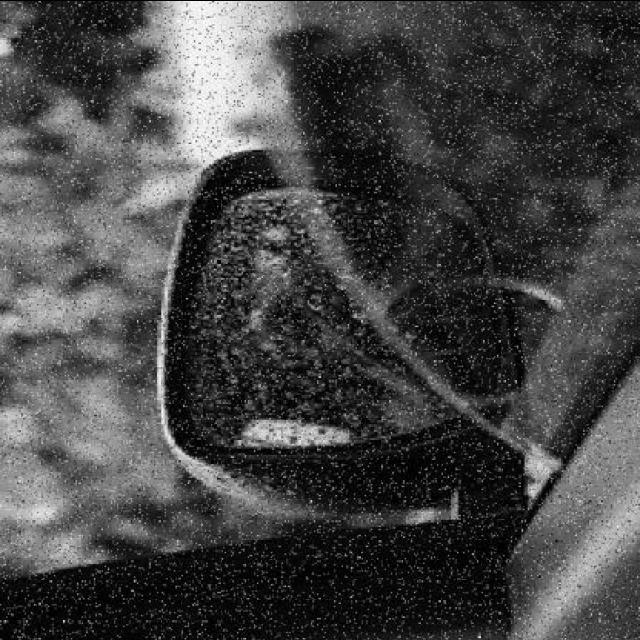Sidemirror-Damage: (140, 133, 546, 522)
